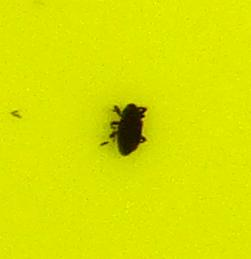Coleoptera: (100, 100, 151, 159)
